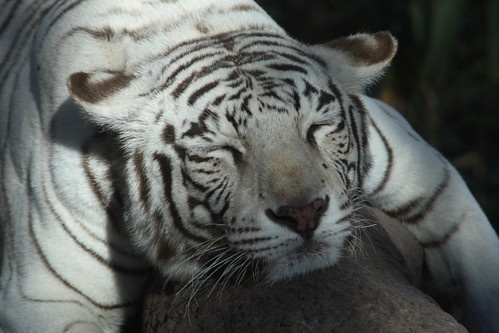tigre: (1, 1, 471, 331)
